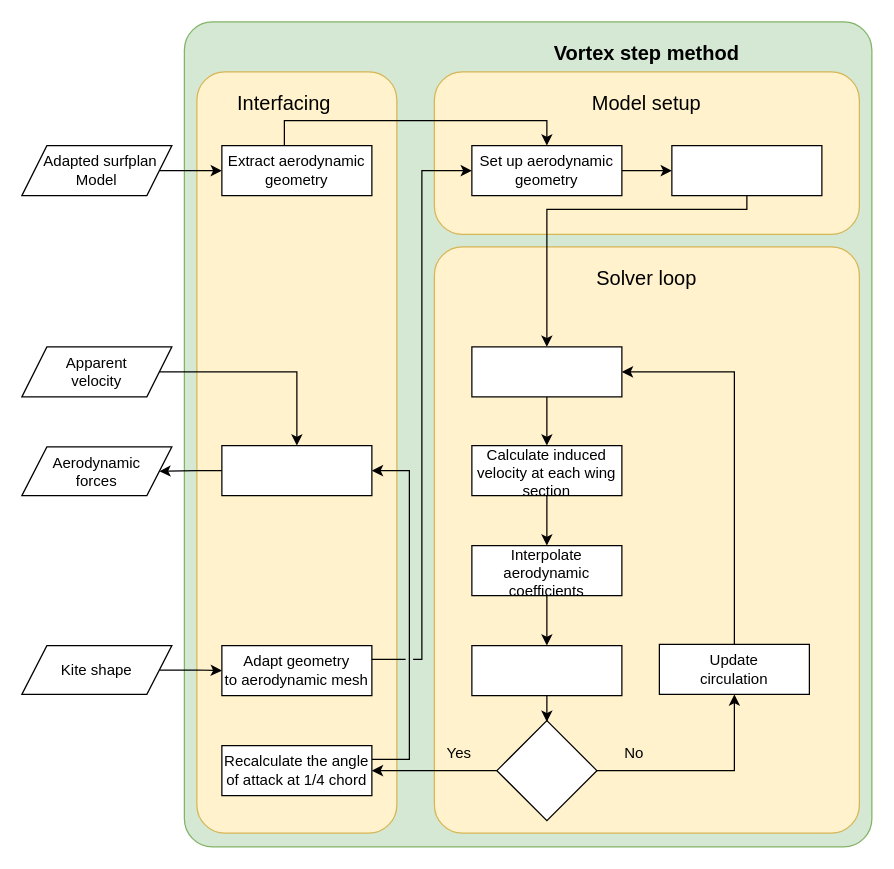
The diagram is 894 pixels wide and 869 high, and some of its shapes have lost their labels. The centre of each missing label's shape, as x and y in pixels:
"Calculate forces along the wing" belongs at [296,470].
"Converged" belongs at [546,770].
"Initialise the circulation" belongs at [546,371].
"recalculate circulation distribution" belongs at [546,670].
"Set up AIC induction matrix" belongs at [746,170].
